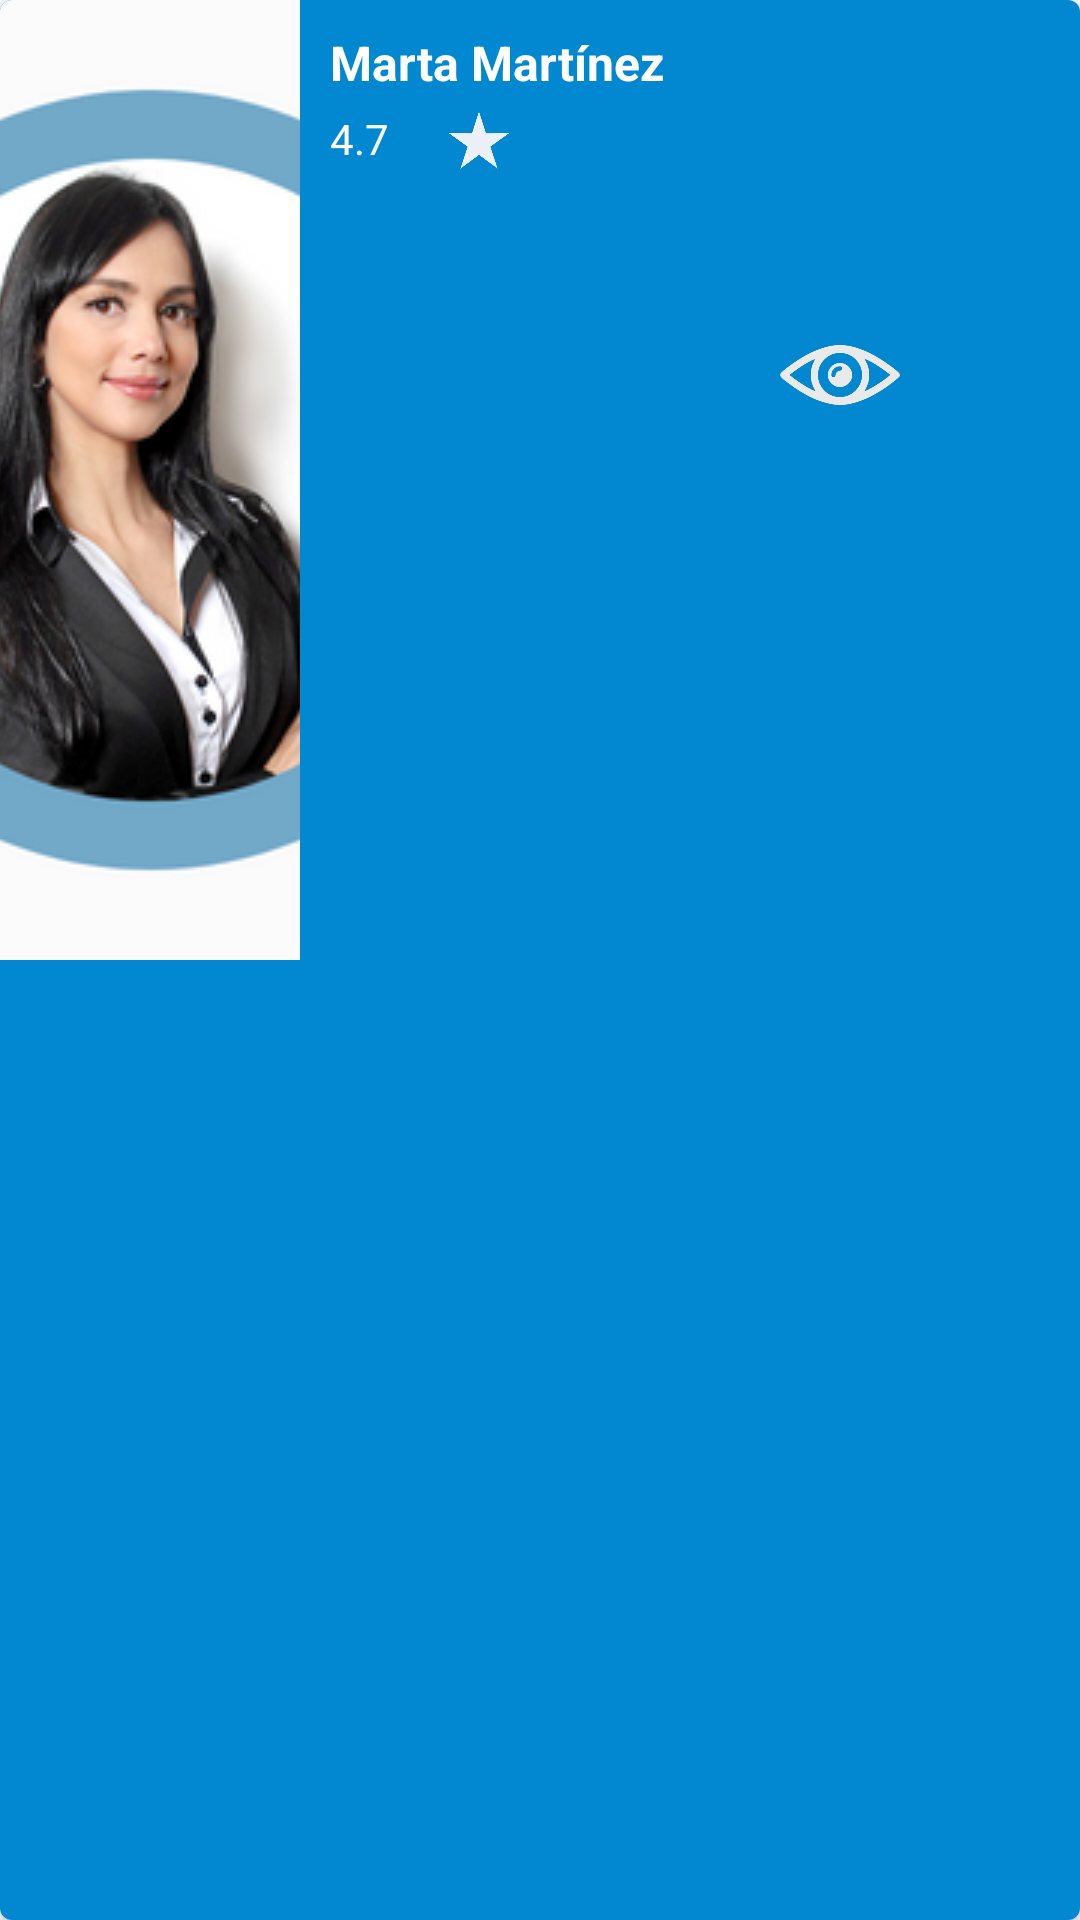

Locate icon controls on the screen. Image size 1080 × 1920, boxes as [x1, y1, x2, y2].
eye: [780, 345, 900, 405]
star: [449, 112, 509, 169]
